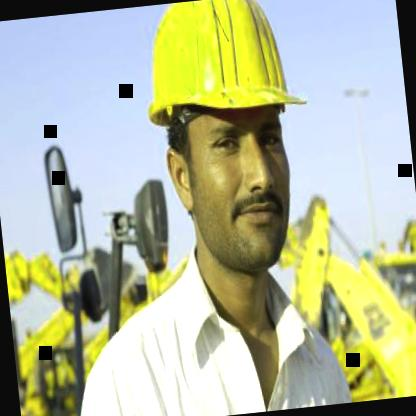helmet: (119, 0, 343, 318)
